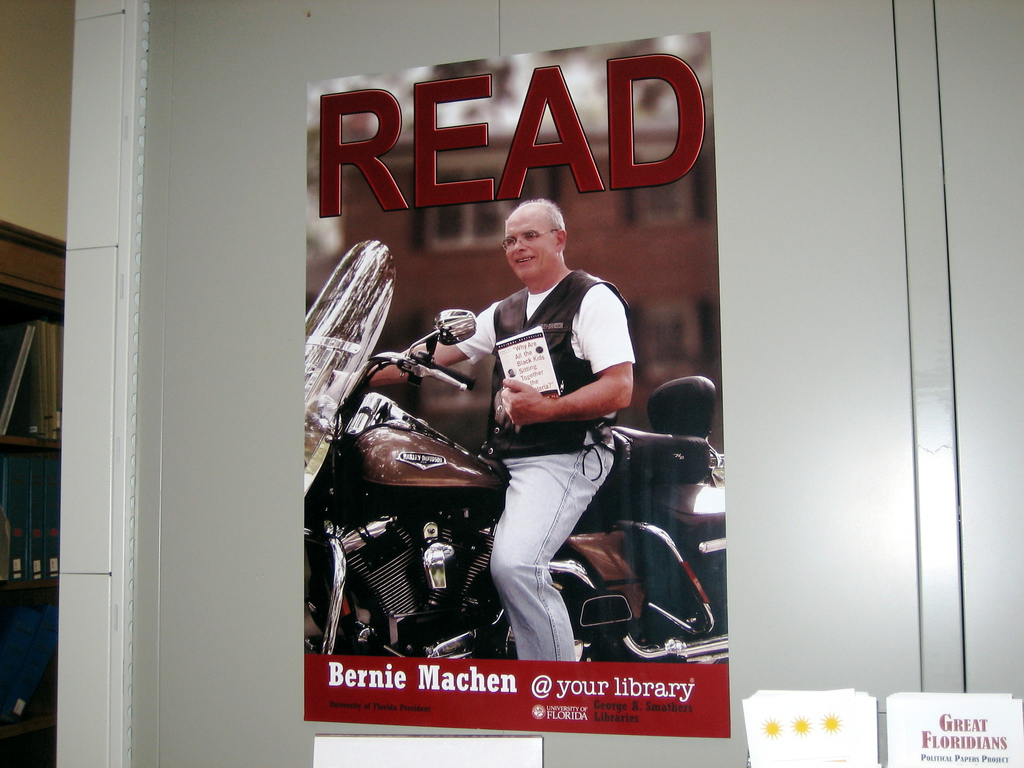Motorcycle: (308, 230, 707, 655)
